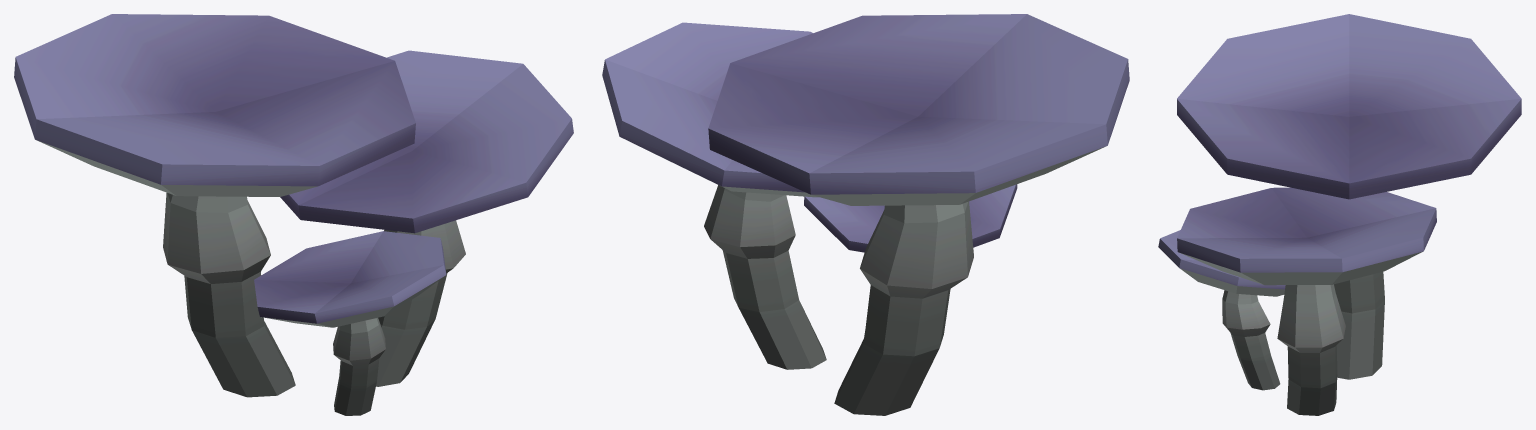
File: pack01_foliage_34.fbx
3 renders of one model, left to right at view 1: azimuth 30°, elevation 25°; view 2: azimuth 150°, elevation 25°; view 3: azimuth 270°, elevation 25°, orthographic. The views are drawn at different scales.
Visible parts, largest first — view 1: Mushroom_flat_group_white; view 2: Mushroom_flat_group_white; view 3: Mushroom_flat_group_white.
Boxes of the visible parts, x1=… form: Mushroom_flat_group_white: x1=14, y1=14, x2=573, y2=415; Mushroom_flat_group_white: x1=602, y1=14, x2=1129, y2=415; Mushroom_flat_group_white: x1=1158, y1=14, x2=1521, y2=415.
Bounding box in the file's own units: 52.73 × 32.74 × 41.1.
Materials: 1 (1 with a texture image).
